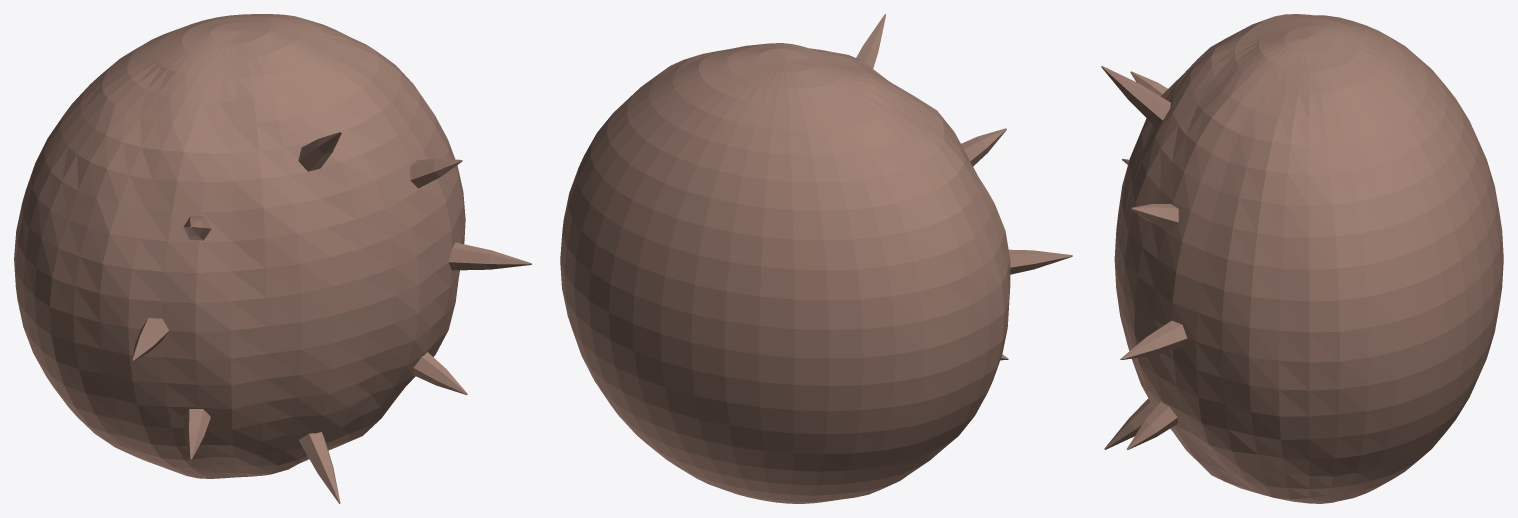
Rendered from gazer_body_original_01.glb.
The picture shows the model from 3 angles, left to right: view 1: azimuth 30°, elevation 25°; view 2: azimuth 150°, elevation 25°; view 3: azimuth 270°, elevation 25°; orthographic projection. The views are drawn at different scales.
Visible parts, largest first — view 1: G0_Body, G0_Spine0, G0_Spine6, G0_Spine7, G0_Spine1, G0_Spine2, G0_Spine4, G0_Spine5; view 2: G0_Body, G0_Spine4, G0_Spine3, G0_Spine2; view 3: G0_Body, G0_Spine2, G0_Spine0, G0_Spine7, G0_Spine1, G0_Spine6.
Boxes of the visible parts, x1,y1,x2,y2 form: G0_Body: [14, 14, 465, 478]; G0_Spine0: [448, 242, 531, 270]; G0_Spine6: [299, 432, 340, 503]; G0_Spine7: [413, 352, 467, 394]; G0_Spine1: [410, 158, 462, 188]; G0_Spine2: [298, 131, 341, 171]; G0_Spine4: [132, 318, 169, 361]; G0_Spine5: [183, 409, 210, 459]; G0_Body: [560, 43, 1010, 503]; G0_Spine4: [1008, 249, 1072, 274]; G0_Spine3: [961, 128, 1006, 166]; G0_Spine2: [856, 14, 886, 68]; G0_Body: [1114, 14, 1503, 503]; G0_Spine2: [1101, 66, 1170, 127]; G0_Spine0: [1120, 320, 1187, 359]; G0_Spine7: [1127, 401, 1177, 449]; G0_Spine1: [1131, 204, 1178, 231]; G0_Spine6: [1104, 398, 1154, 449].
Size of the model in its own units: 0.88 by 0.8801 by 0.7242.
